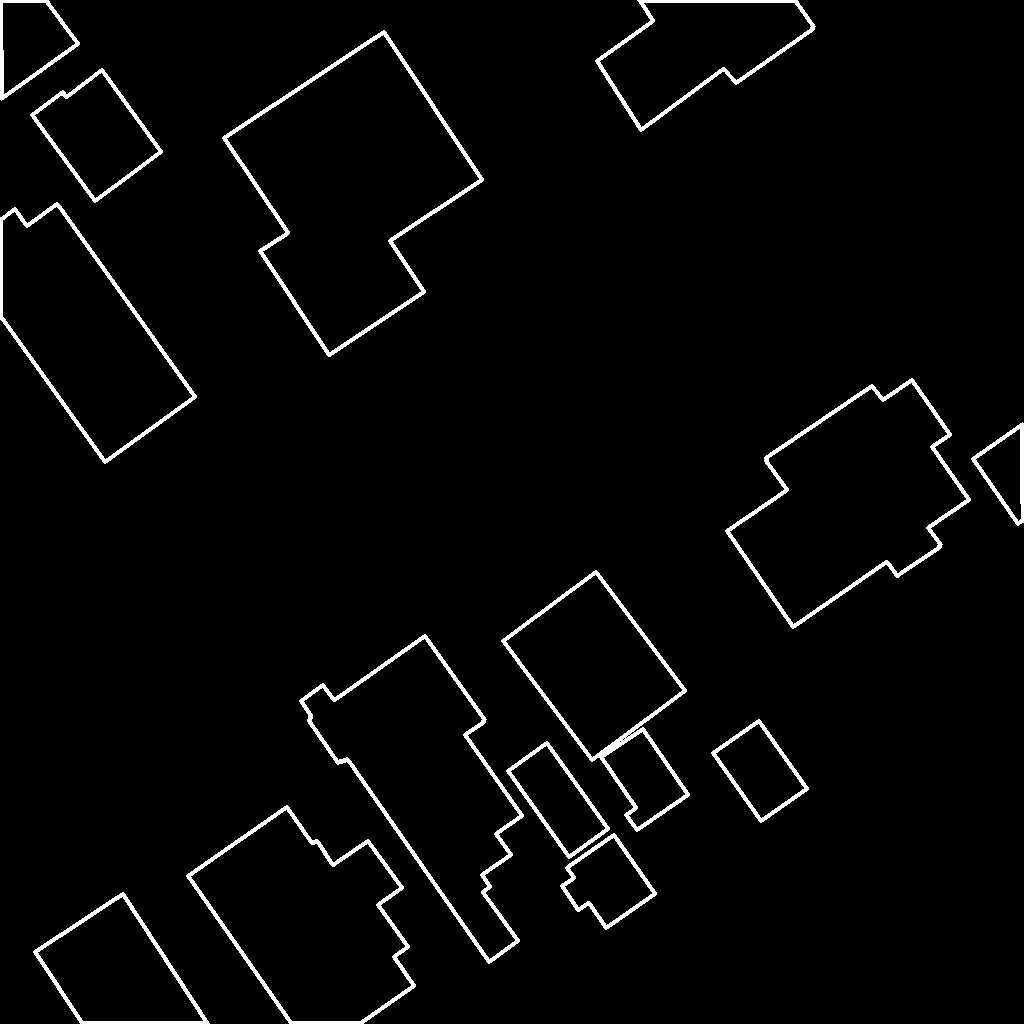building: (224, 32, 483, 356), (301, 636, 523, 963), (727, 380, 970, 628), (0, 204, 196, 463), (188, 807, 415, 1024), (503, 572, 686, 761), (597, 0, 815, 131), (35, 894, 209, 1024), (32, 70, 162, 202), (508, 743, 609, 858), (713, 721, 808, 822), (601, 729, 689, 831), (562, 835, 656, 929), (0, 0, 79, 100), (973, 424, 1024, 525)
